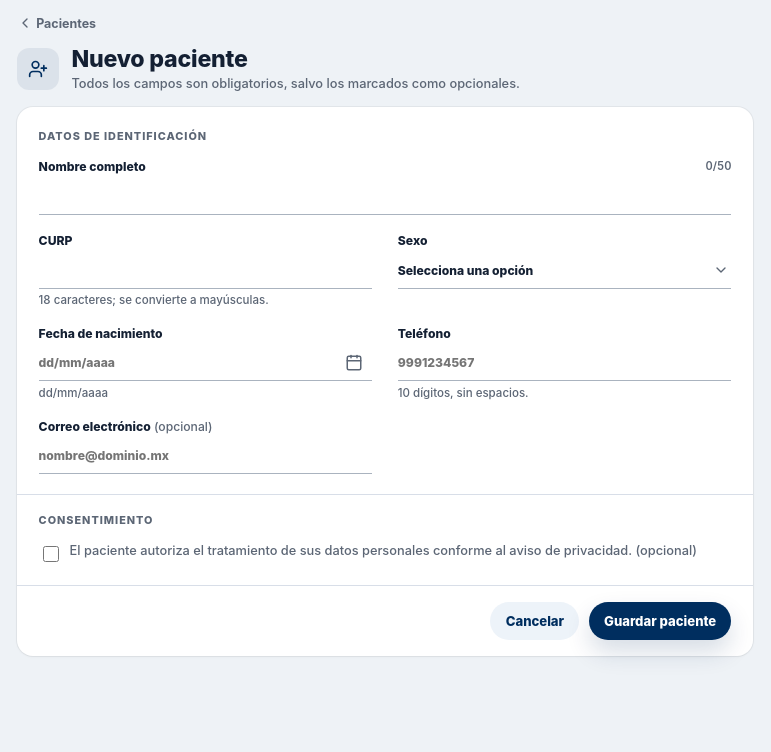
Scenario: registro de paciente (EDT 4.3.1) › no envía con campos obligatorios vacíos y lleva el foco al primero (CA-3.1-05)
Click the button "Guardar paciente".
click(660, 621)  # box [589, 602, 731, 640]
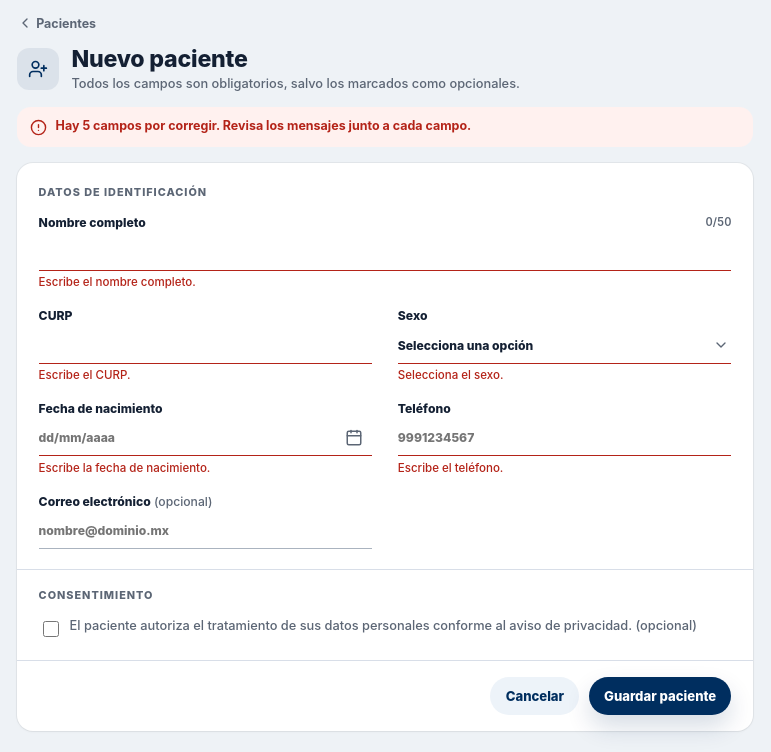
Expected: the text "Hay 5 campos por corregir. Revisa los mensajes junto a cada campo." is shown, [56, 118, 471, 133]
Expected: the text "Escribe el nombre completo." is shown, [39, 275, 196, 289]
Expected: the text "Selecciona el sexo." is shown, [398, 368, 503, 382]
